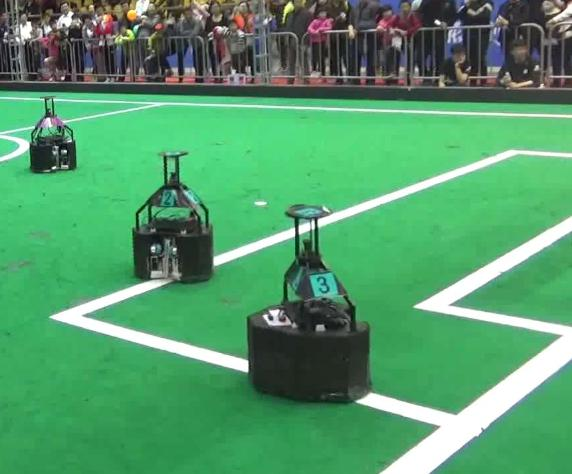robot: (244, 197, 379, 411), (130, 148, 216, 286), (26, 91, 83, 175)
